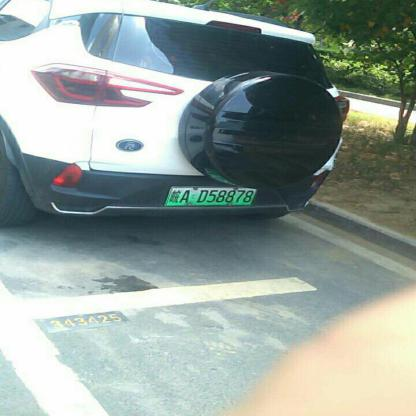lp: (165, 186, 257, 206)
